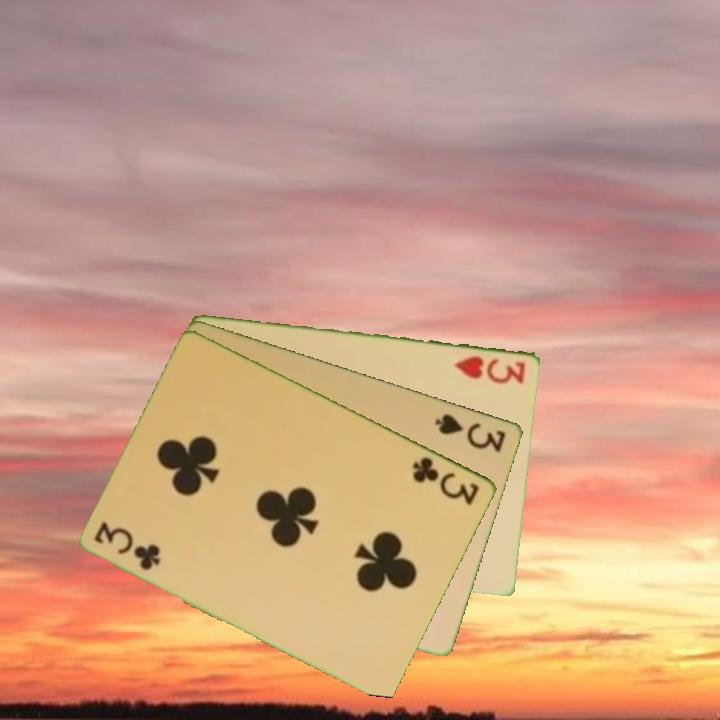3c: (409, 453, 483, 508), (91, 519, 164, 573)
3h: (451, 352, 529, 386)
3s: (431, 410, 510, 455)
